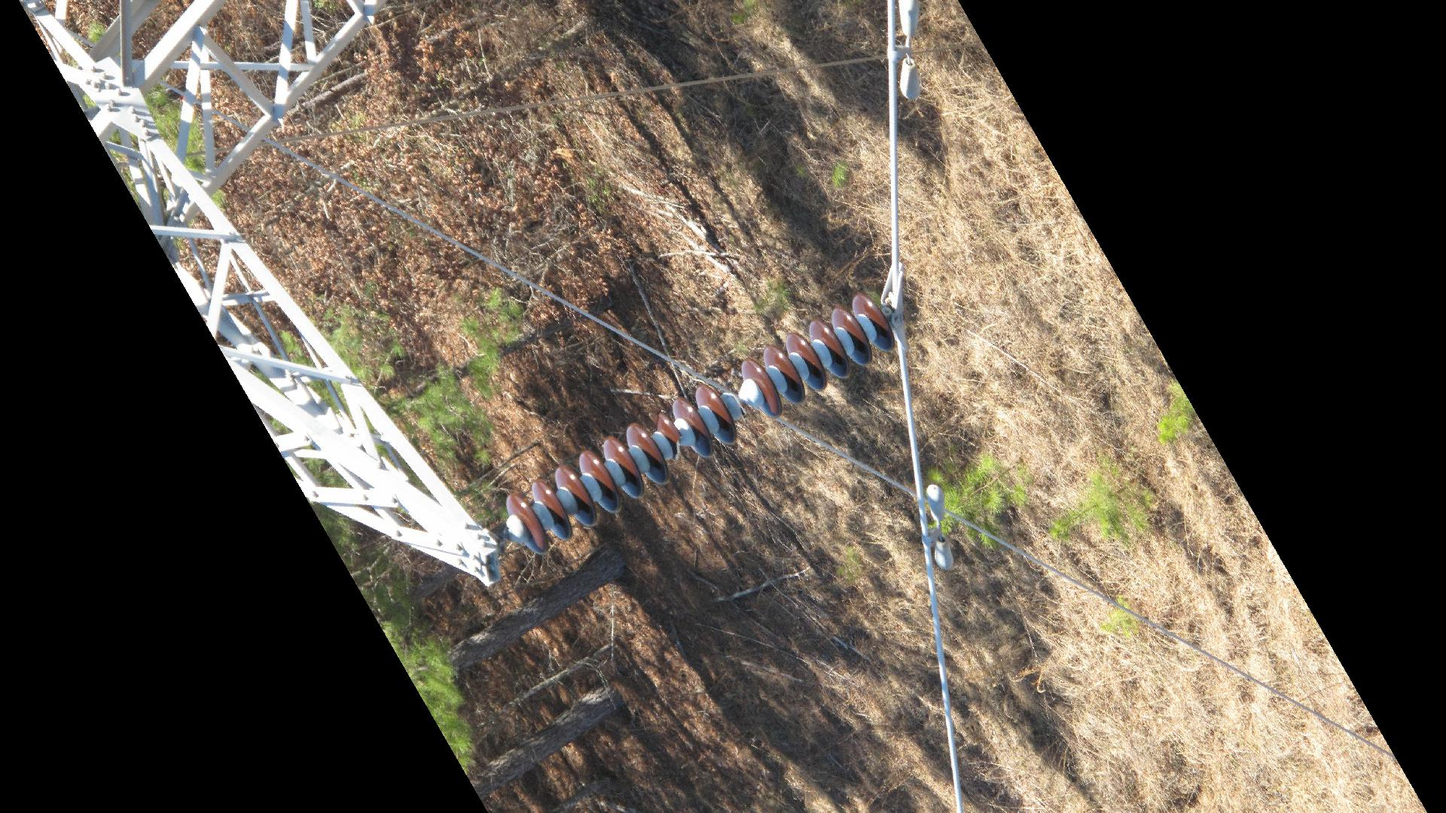insulator: (501, 382, 743, 556), (737, 289, 898, 422)
insulator_breakage: (670, 429, 688, 464)
